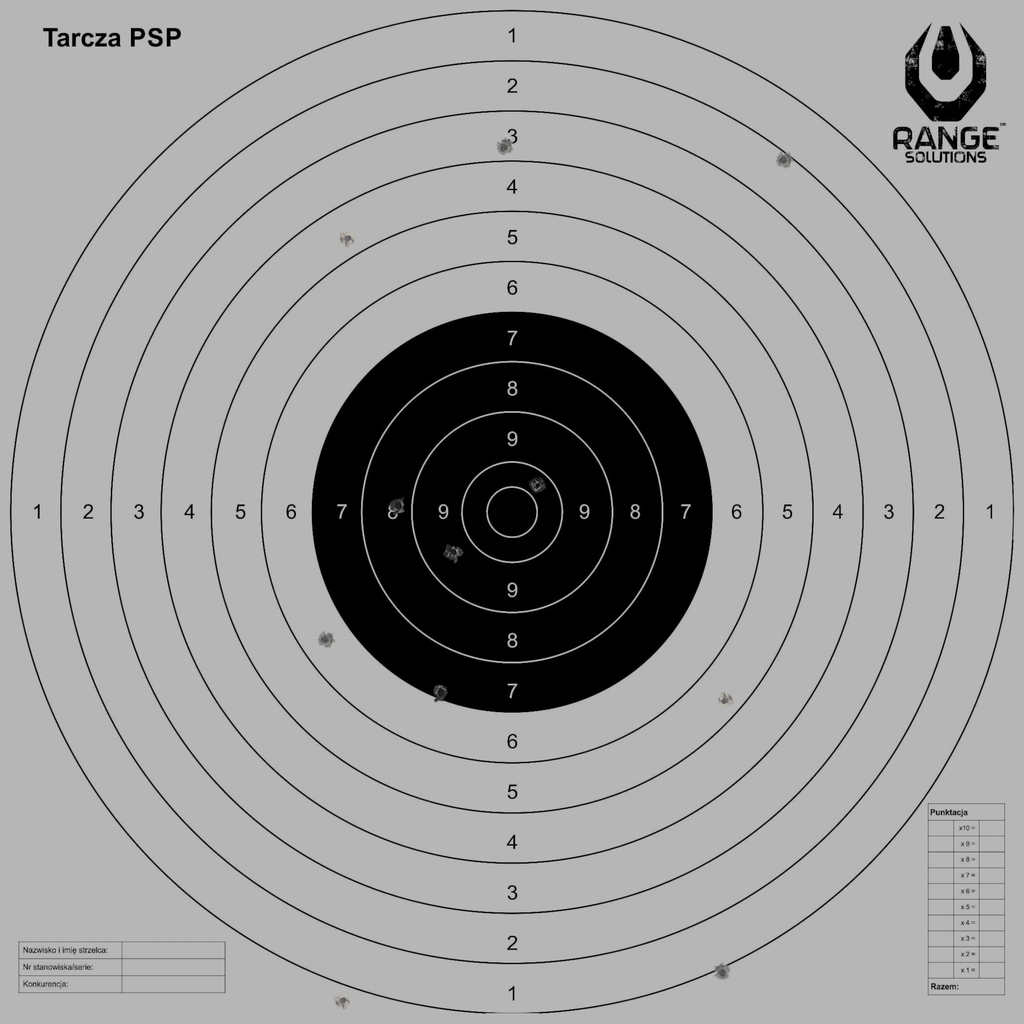0 punktow: (334, 991, 352, 1010)
1 punkt: (713, 963, 732, 982)
10 punktow: (528, 477, 547, 495)
2 punkty: (774, 151, 793, 169)
3 punkty: (495, 138, 514, 157)
4 punkty: (339, 229, 357, 248)
5 punktow: (716, 691, 734, 710)
6 punktow: (316, 630, 335, 649)
7 punktow: (431, 683, 450, 702)
8 punktow: (389, 497, 408, 515)
9 punktow: (444, 543, 462, 561)
